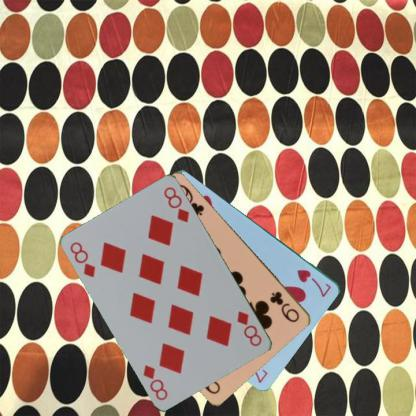7h: (294, 266, 333, 298)
8d: (234, 308, 264, 348), (68, 239, 97, 279)
9c: (267, 288, 301, 324)
